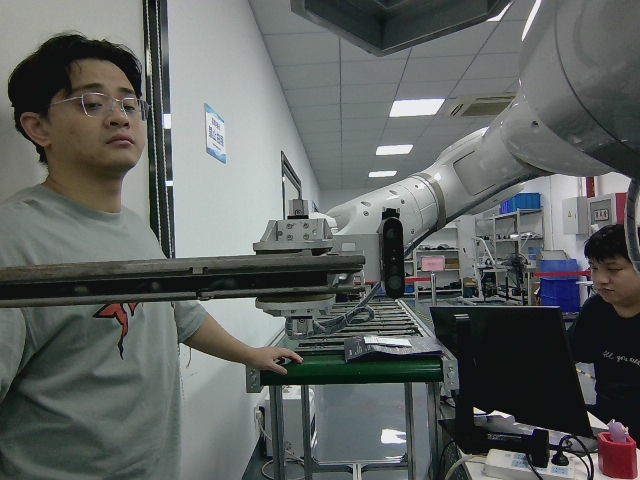left: (0, 250, 366, 308)
